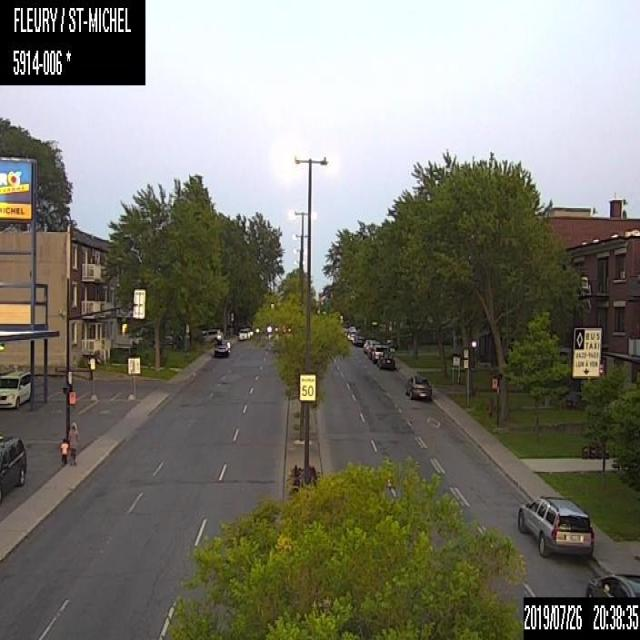pedestrian: (66, 420, 78, 468), (58, 435, 70, 467)
vehicle: (516, 494, 594, 558), (0, 428, 27, 503), (584, 571, 639, 596), (0, 365, 30, 407), (404, 372, 432, 400), (213, 339, 232, 357), (370, 343, 388, 362), (379, 352, 396, 369), (202, 328, 223, 341), (366, 340, 379, 358), (352, 332, 364, 346), (238, 326, 250, 340), (362, 338, 372, 352)
